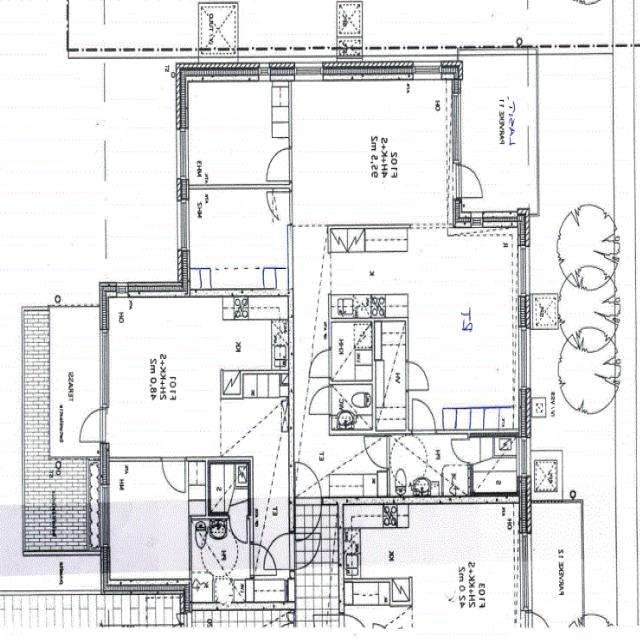door: (296, 496, 322, 540), (296, 460, 322, 504), (452, 165, 486, 198), (265, 191, 295, 224), (265, 148, 295, 180), (364, 436, 390, 468), (413, 398, 436, 433), (406, 361, 429, 390), (309, 388, 332, 415), (309, 350, 331, 378), (452, 440, 474, 463)
